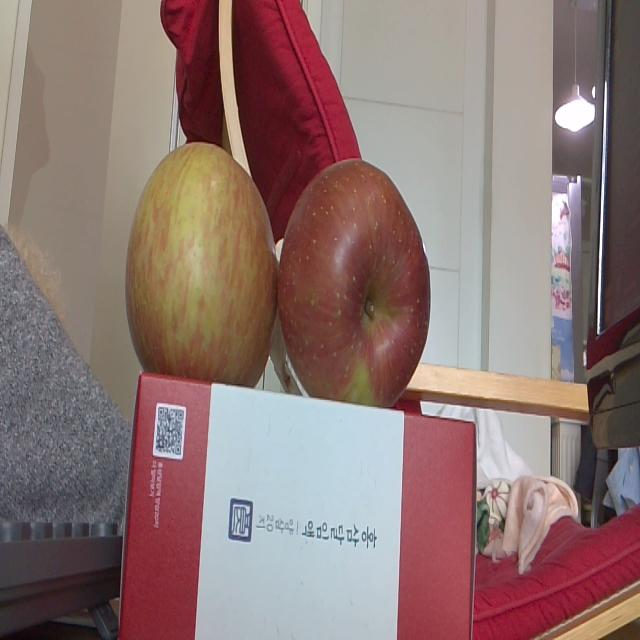apple: (122, 134, 279, 390), (279, 156, 433, 407)
